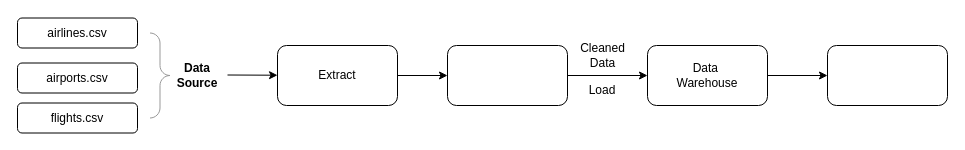
Image size: 965x150. Some labels were removed from this diagram. Each missing label, with the centre of its shape:
Analyze + Visualize: point 887,75
Transform: point 507,75
